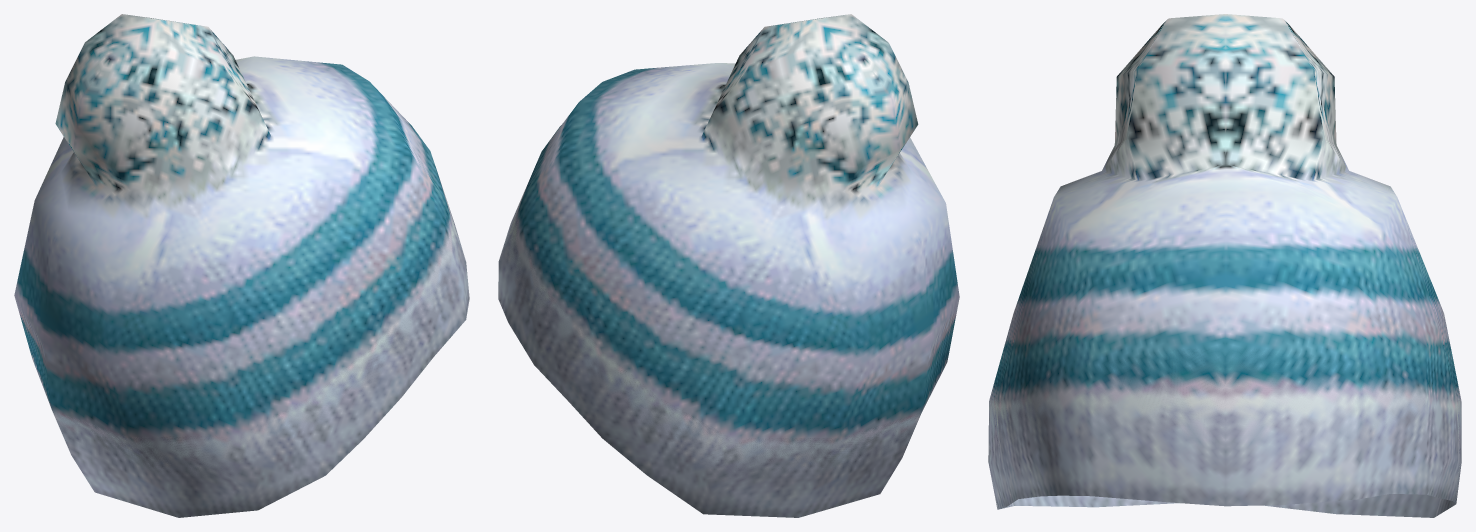
Rendered from hat_0450040.FBX.
3 views of the same model, side by side, from view 1: azimuth 30°, elevation 25°; view 2: azimuth 150°, elevation 25°; view 3: azimuth 270°, elevation 25° (orthographic). The views are drawn at different scales.
Visible parts, largest first — view 1: hat_0450040; view 2: hat_0450040; view 3: hat_0450040.
Part boxes in pixels (x1,y1,x2,y2): hat_0450040: (14, 14, 469, 517); hat_0450040: (498, 14, 959, 517); hat_0450040: (988, 14, 1461, 517).
Bounding box in the file's own units: 24.91 × 27.4 × 22.46.
